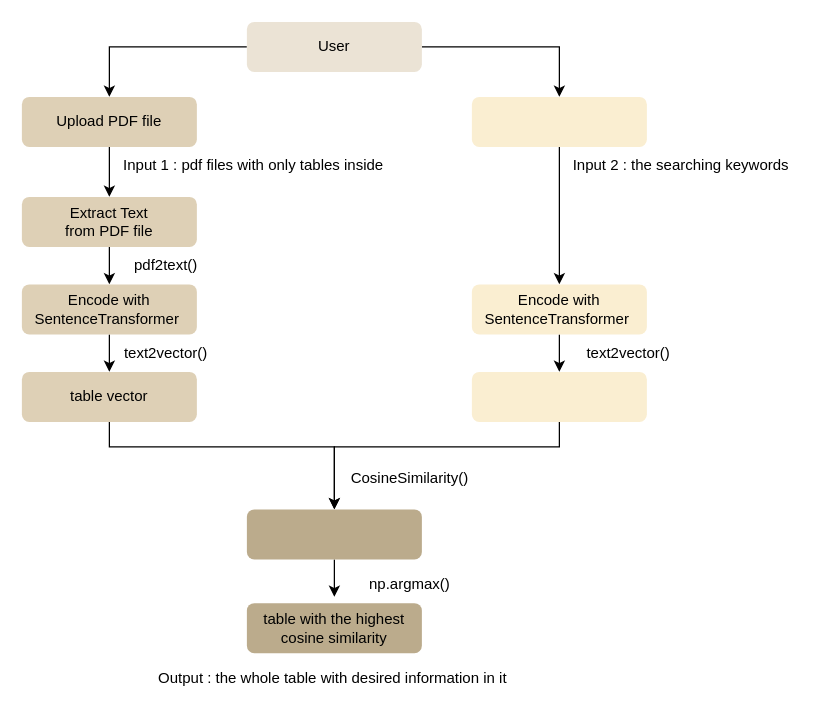
The diagram is 826 pixels wide and 718 high, and some of its shapes have lost their labels. Here are the shapes that lost their labels. From the top down, the box of each, then its label:
(471, 96, 646, 146): Enter Keyword
(471, 371, 646, 421): keyword vector
(246, 509, 421, 559): Calculate Cosine Similarity
